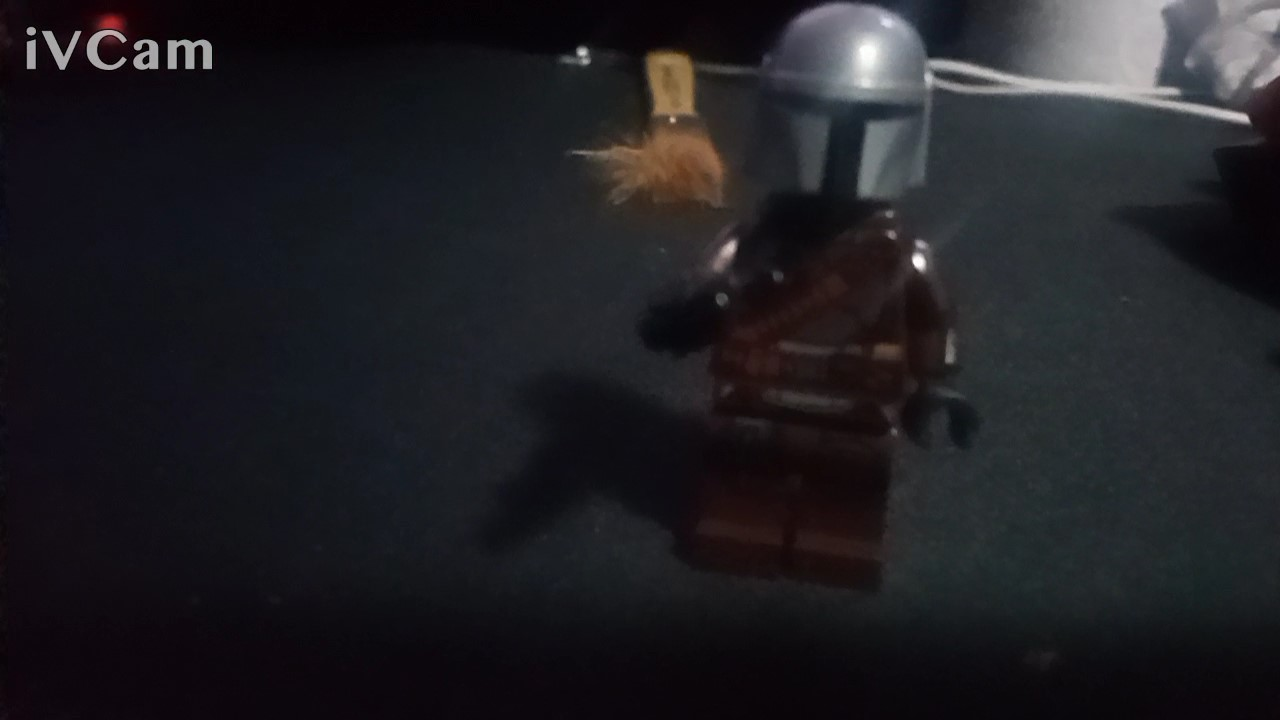mandalorian: (634, 2, 988, 588)
